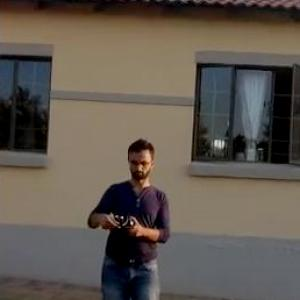follow: (82, 130, 176, 299)
